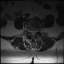CCS_normal: (32, 28, 34, 37)
LFS_stenosis: (36, 28, 38, 34)
LLS_normal: (34, 28, 36, 35)
RFS_normal: (28, 27, 30, 34)
RLS_normal: (30, 28, 32, 35)
